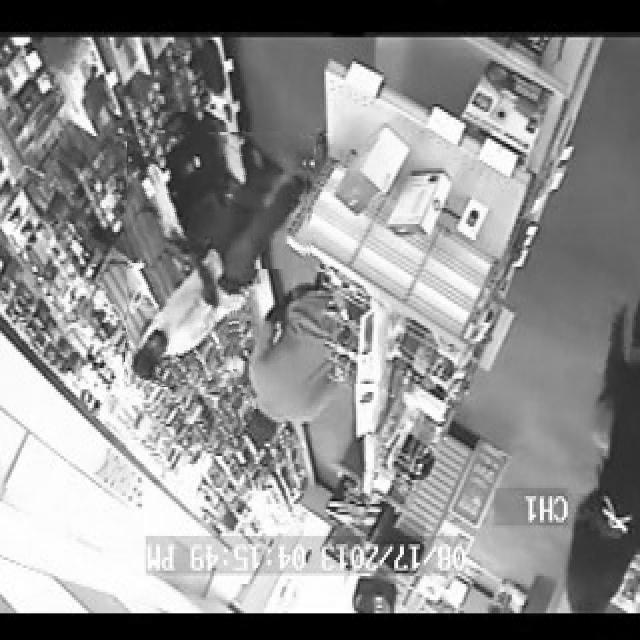normal: (127, 131, 313, 387), (234, 268, 350, 464)
